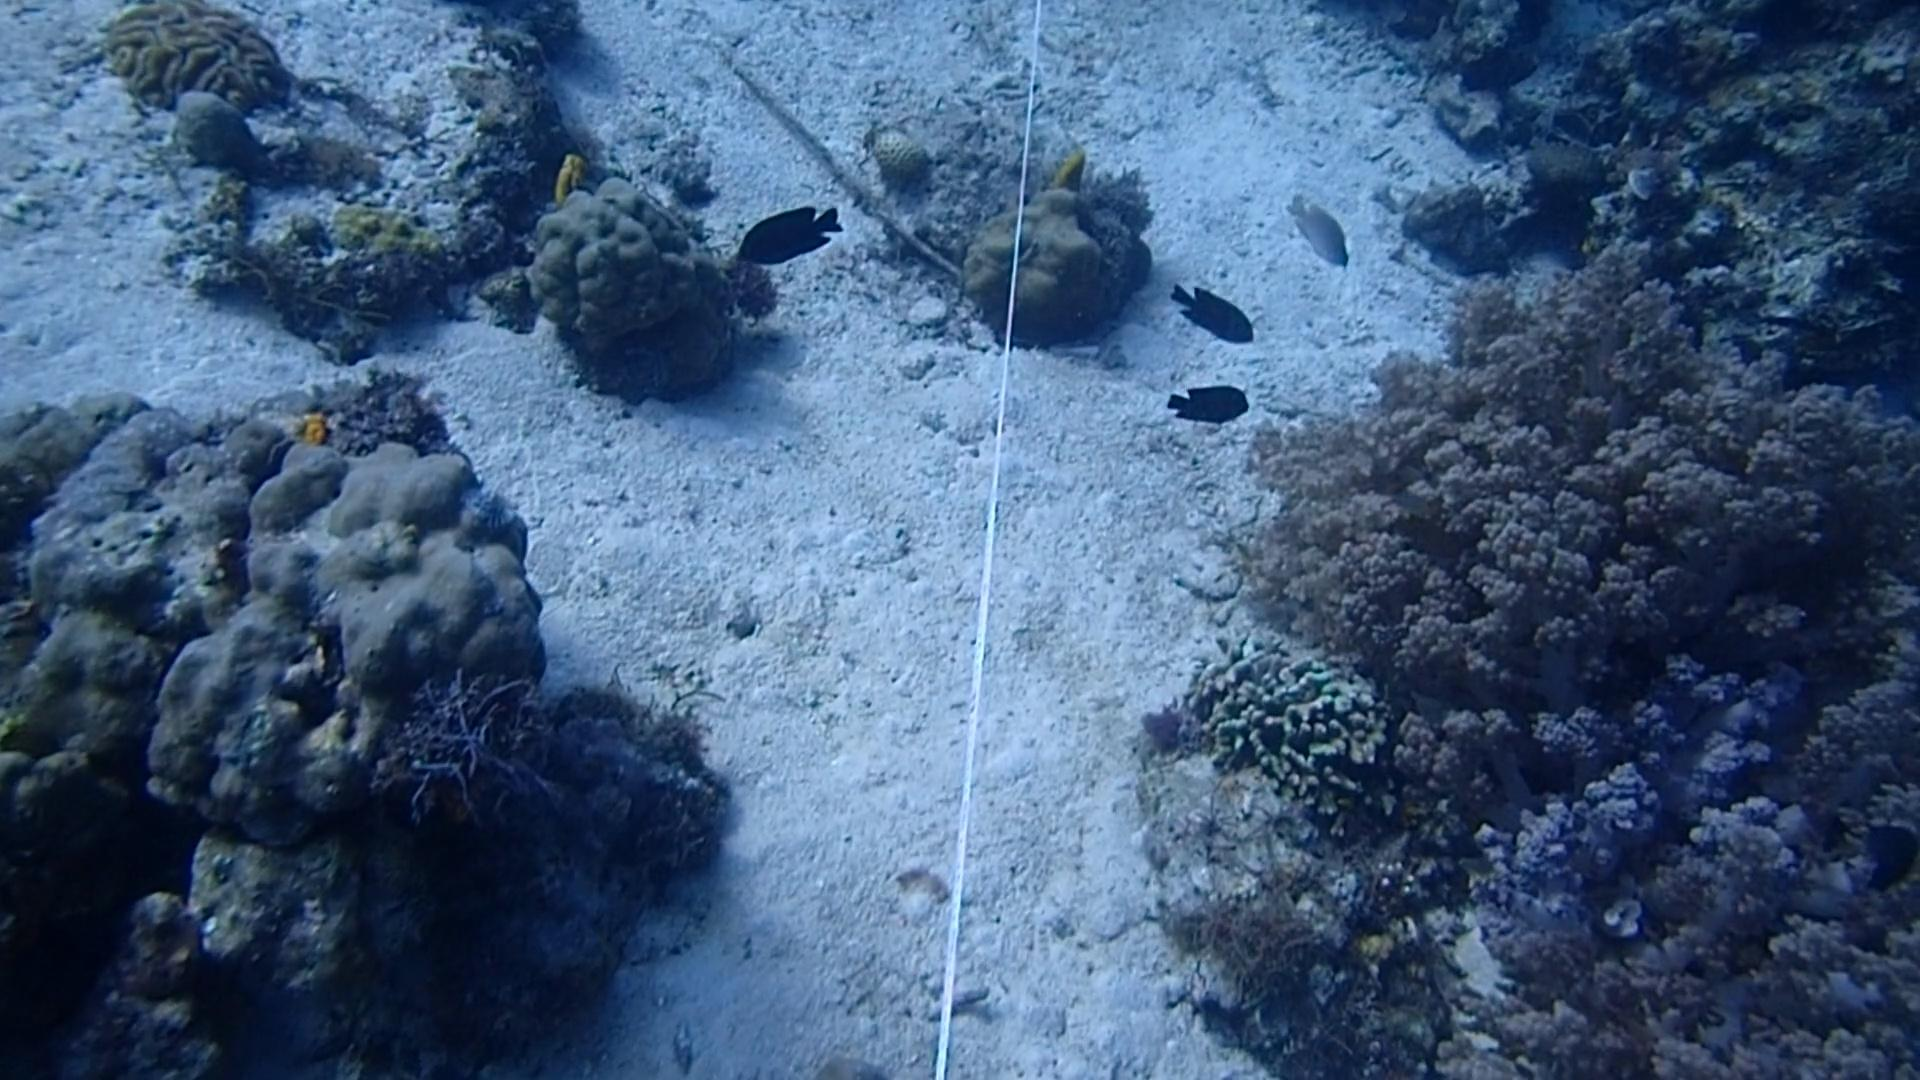Dark Fish: (1162, 269, 1255, 355), (736, 199, 843, 272), (1158, 373, 1253, 438), (1863, 835, 1920, 901)
Light Fish: (1283, 191, 1358, 276)
